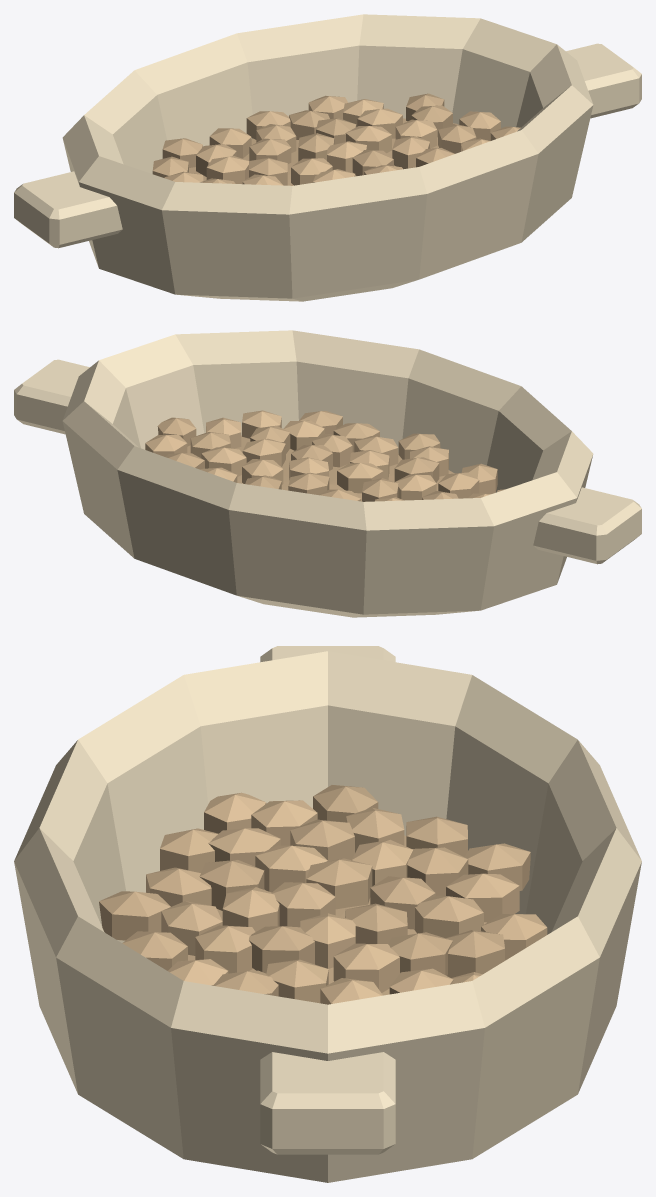
File: crafted-portions-1.glb
3 views of the same model, one above another, from view 1: azimuth 30°, elevation 25°; view 2: azimuth 150°, elevation 25°; view 3: azimuth 270°, elevation 25° (orthographic). The views are drawn at different scales.
Visible parts, largest first — view 1: serving-dish, dish-handle, dish-handle-1, ration-granule-12, ration-granule-5, ration-granule-8, ration-granule-7, ration-granule-28, ration-granule, ration-granule-21, ration-granule-18, ration-granule-34 (+18 smaller); view 2: serving-dish, dish-handle, dish-handle-1, ration-granule-1, ration-granule-13, ration-volume, ration-granule-8, ration-granule-9, ration-granule-22, ration-granule-14, ration-granule-24, ration-granule-11 (+18 smaller); view 3: serving-dish, dish-handle-1, ration-granule-40, ration-granule-5, ration-granule-4, ration-granule-15, ration-granule-28, ration-granule-3, ration-granule-23, ration-granule-11, ration-granule-9, ration-granule-1 (+27 smaller).
Boxes of the visible parts, x1=… form: serving-dish: x1=62, y1=14, x2=593, y2=301; dish-handle: x1=14, y1=171, x2=122, y2=248; dish-handle-1: x1=566, y1=43, x2=641, y2=118; ration-granule-12: x1=206, y1=156, x2=248, y2=184; ration-granule-5: x1=345, y1=126, x2=391, y2=153; ration-granule-8: x1=392, y1=136, x2=429, y2=169; ration-granule-7: x1=249, y1=138, x2=291, y2=164; ration-granule-28: x1=209, y1=128, x2=251, y2=158; ration-granule: x1=327, y1=141, x2=366, y2=172; ration-granule-21: x1=438, y1=124, x2=476, y2=153; ration-granule-18: x1=357, y1=108, x2=402, y2=138; ration-granule-34: x1=459, y1=111, x2=500, y2=140; serving-dish: x1=62, y1=330, x2=593, y2=617; dish-handle: x1=533, y1=487, x2=641, y2=564; dish-handle-1: x1=14, y1=359, x2=89, y2=434; ration-granule-1: x1=337, y1=463, x2=383, y2=493; ration-granule-13: x1=201, y1=447, x2=246, y2=476; ration-volume: x1=187, y1=435, x2=454, y2=501; ration-granule-8: x1=242, y1=438, x2=285, y2=466; ration-granule-9: x1=395, y1=474, x2=436, y2=500; ration-granule-22: x1=438, y1=472, x2=479, y2=498; ration-granule-14: x1=394, y1=457, x2=439, y2=482; ration-granule-24: x1=283, y1=420, x2=324, y2=450; ration-granule-11: x1=312, y1=434, x2=352, y2=467; serving-dish: x1=14, y1=651, x2=641, y2=1182; dish-handle-1: x1=260, y1=1052, x2=395, y2=1154; ration-granule-40: x1=99, y1=891, x2=170, y2=940; ration-granule-5: x1=333, y1=943, x2=399, y2=992; ration-granule-4: x1=306, y1=858, x2=372, y2=909; ration-granule-15: x1=414, y1=895, x2=483, y2=938; ration-granule-28: x1=446, y1=873, x2=519, y2=922; ration-granule-3: x1=249, y1=926, x2=314, y2=973; ration-granule-23: x1=446, y1=930, x2=504, y2=977; ration-granule-11: x1=195, y1=925, x2=255, y2=973; ration-granule-9: x1=255, y1=845, x2=327, y2=892; ration-granule-1: x1=272, y1=882, x2=335, y2=927.
Bounding box in the file's own units: 0.88 × 0.2 × 0.5106.
